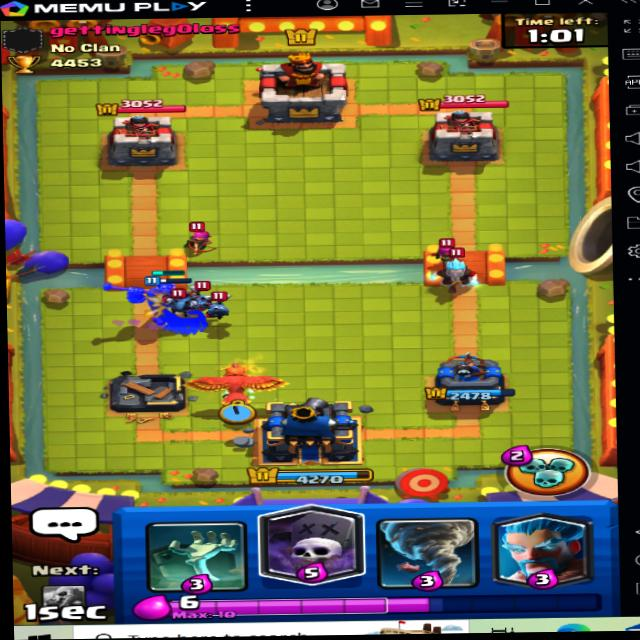archer: (179, 216, 219, 256), (425, 238, 464, 264)
ice-wizard: (430, 247, 480, 295)
minion: (206, 297, 246, 329), (163, 284, 196, 314), (182, 284, 211, 312)
